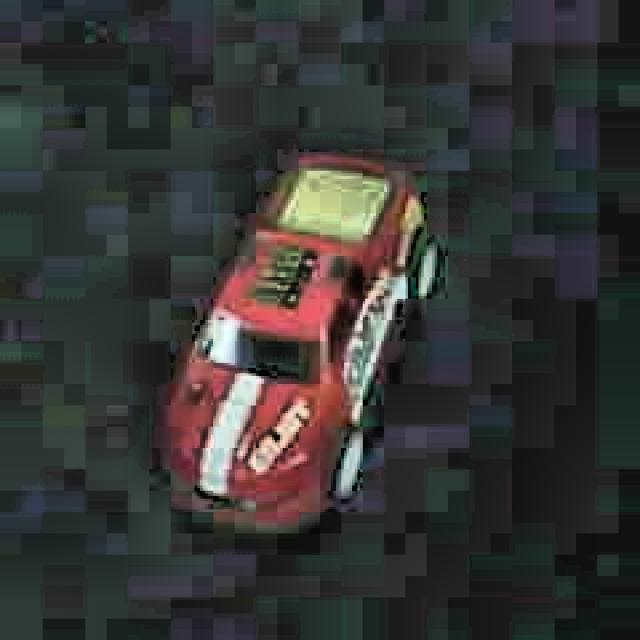car: (150, 143, 443, 542)
